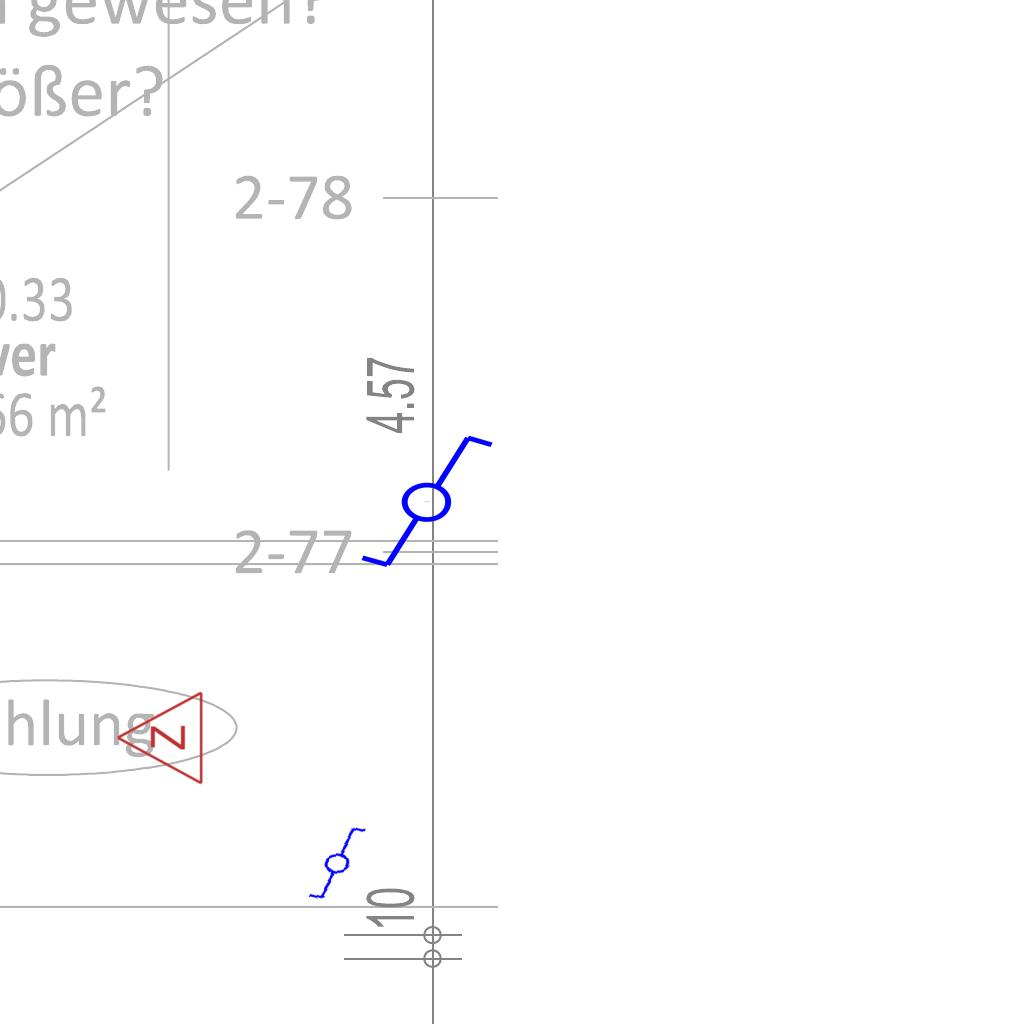Wechselschalter: (340, 428, 497, 572), (289, 821, 377, 905)
Zimmersignalleuchte: (110, 690, 210, 788)
